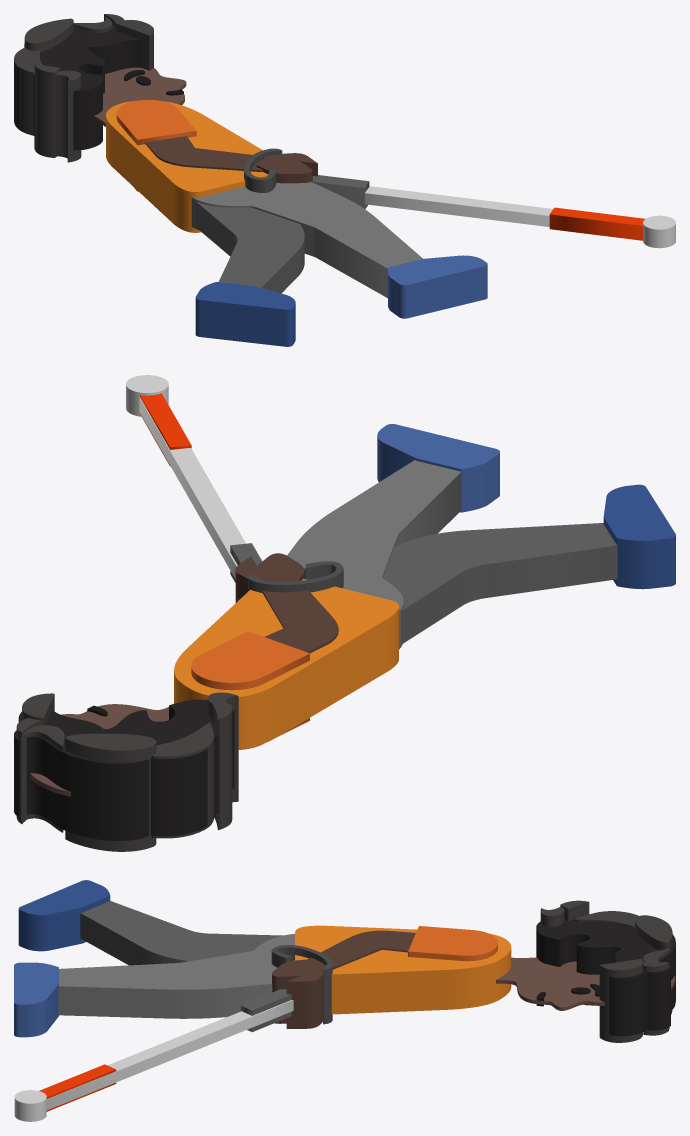
File: emoji_u1f9d1_1f3ff_200d_1f9af_200d_27a1.glb
3 renders of one model, top to bottom at view 1: azimuth 30°, elevation 25°; view 2: azimuth 150°, elevation 25°; view 3: azimuth 270°, elevation 25°, orthographic. The views are drawn at different scales.
Parts seen in each view (by area): view 1: emoji_u1f9d1_1f3ff_200d_1f9af_200d_27a1; view 2: emoji_u1f9d1_1f3ff_200d_1f9af_200d_27a1; view 3: emoji_u1f9d1_1f3ff_200d_1f9af_200d_27a1.
Boxes of the visible parts, box(x1,y1,x2,y2) form: emoji_u1f9d1_1f3ff_200d_1f9af_200d_27a1: box(14, 14, 675, 346); emoji_u1f9d1_1f3ff_200d_1f9af_200d_27a1: box(14, 375, 675, 851); emoji_u1f9d1_1f3ff_200d_1f9af_200d_27a1: box(14, 880, 675, 1121).
Bounding box in the file's own units: 0.0253 × 0.0046 × 0.033.
